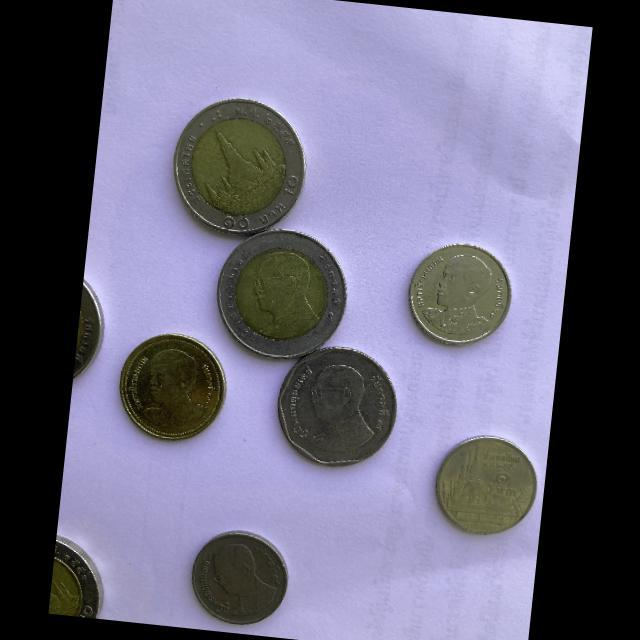1 Bath: (433, 431, 542, 540), (406, 240, 514, 350), (190, 530, 292, 626)
10 Bath: (174, 97, 309, 235), (216, 227, 352, 360), (43, 535, 107, 623), (66, 279, 107, 389)
2 Bath: (118, 333, 227, 444)
5 Bath: (276, 347, 400, 468)
